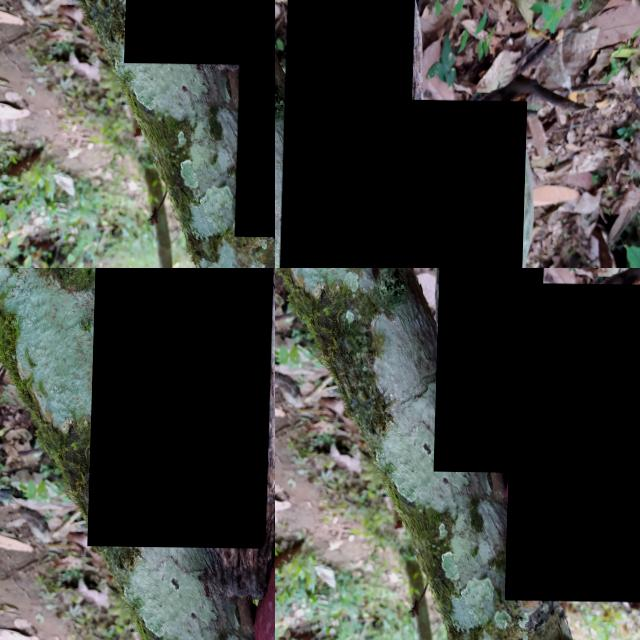Fitoftora: (89, 268, 275, 547), (436, 268, 549, 471)
Monilia: (281, 0, 416, 268), (391, 98, 528, 268), (126, 0, 263, 63)
Sana: (508, 282, 640, 600)
